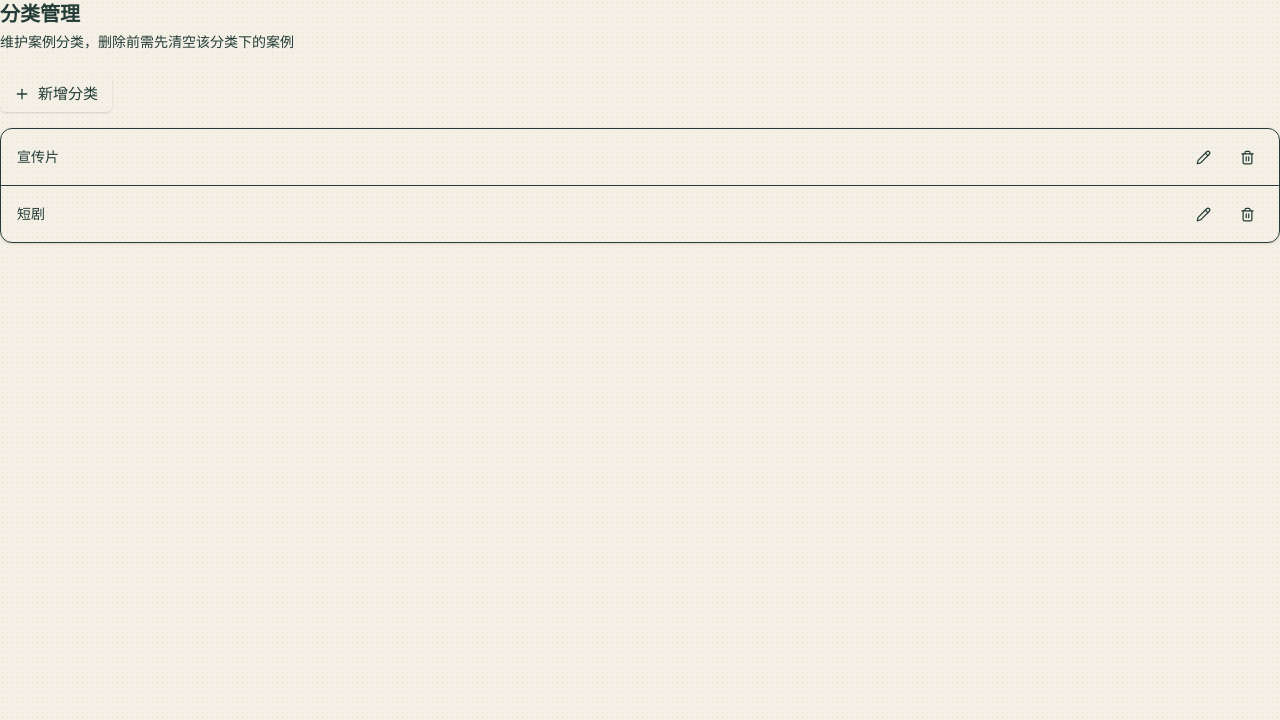
Test: renames a category
The width and height of the screenshot is (1280, 720).
Check: the text "宣传片" is shown, box x1=17 y1=147 x2=59 y2=166
Click the button named "重命名宣传片".
click(1203, 157)  # box x1=1187 y1=141 x2=1219 y2=173
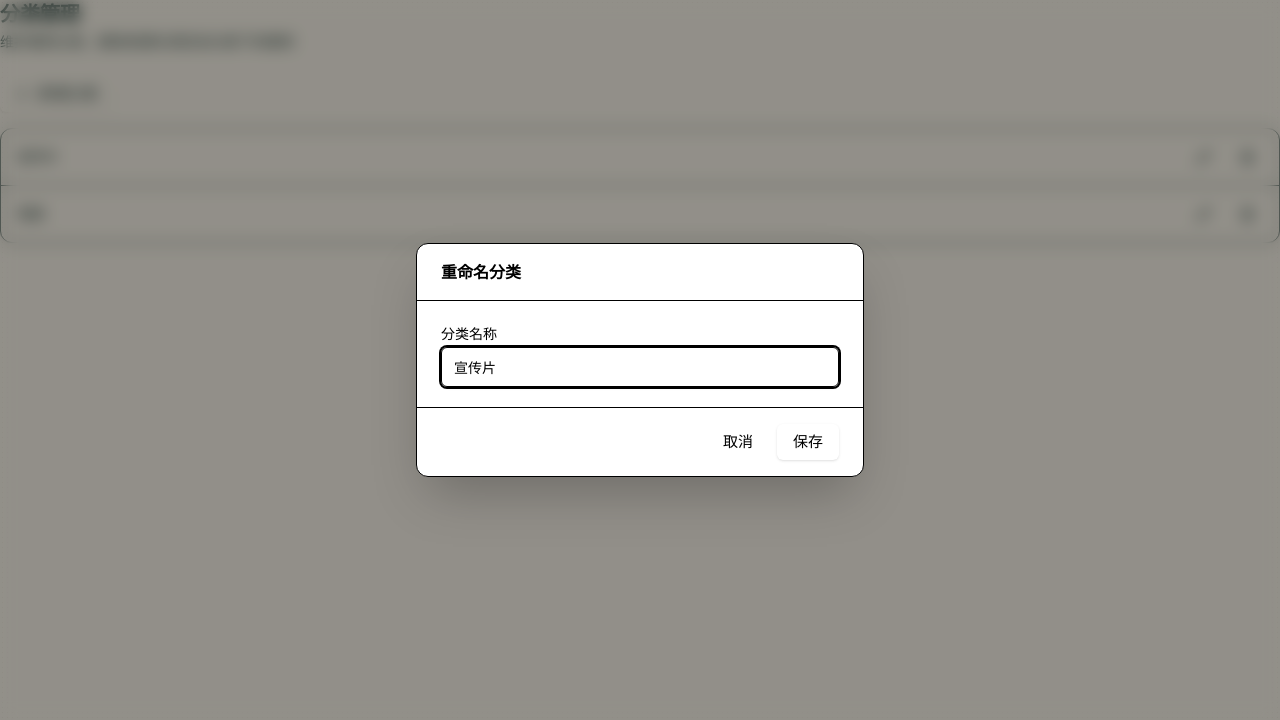
Replace the text in the field showing "宣传片" with "品牌宣传" at (640, 367), box x1=441 y1=347 x2=839 y2=387
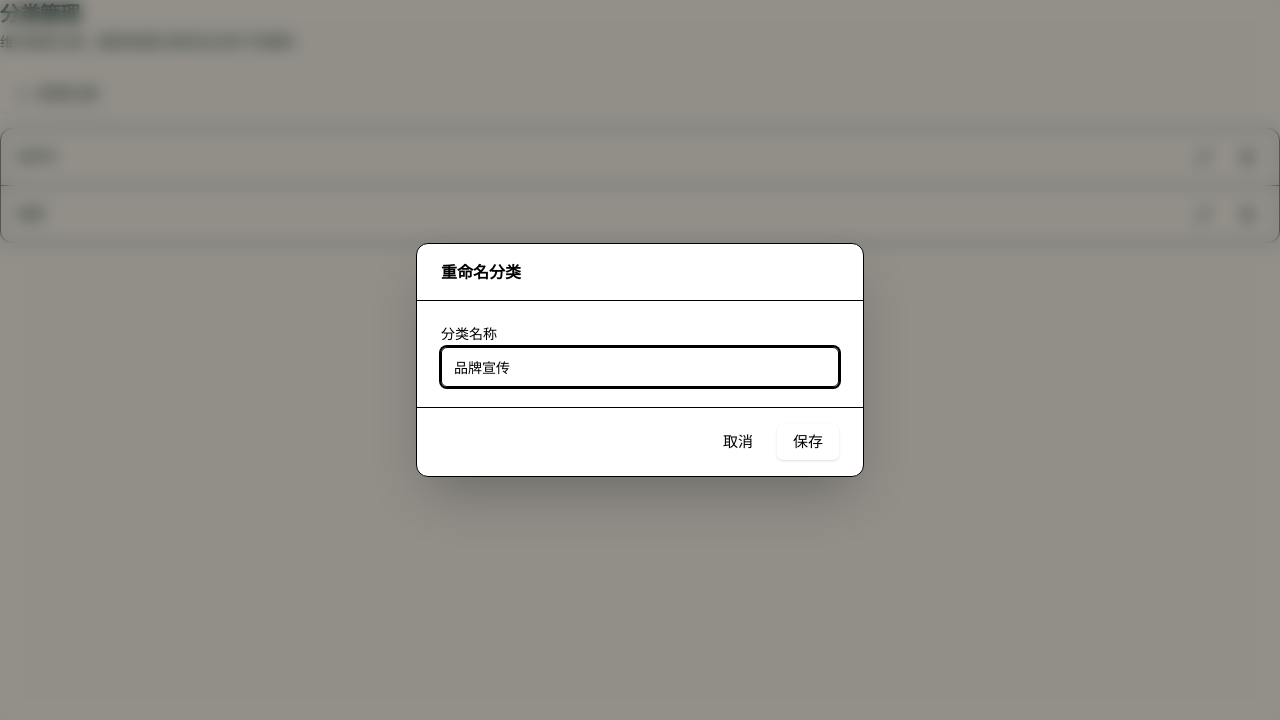
Click the button "保存".
click(808, 442)  # box x1=777 y1=424 x2=839 y2=460
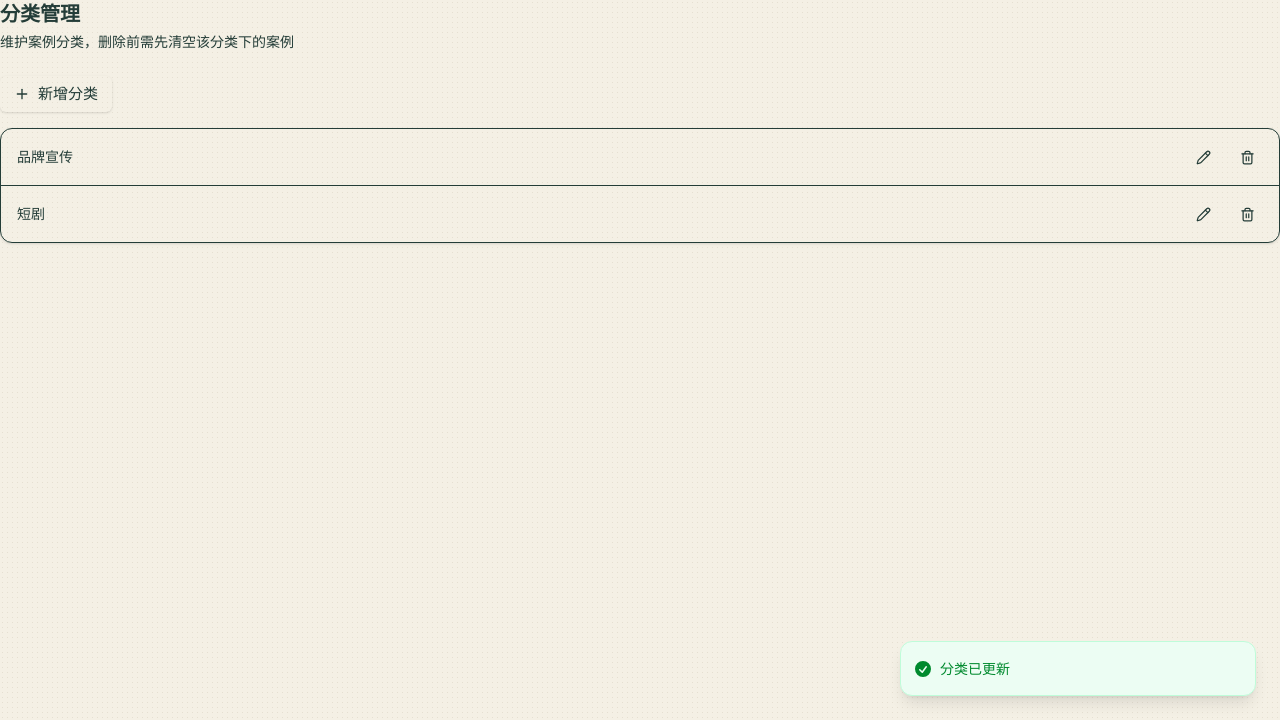
Check: the text "品牌宣传" is shown, box x1=17 y1=147 x2=73 y2=166
